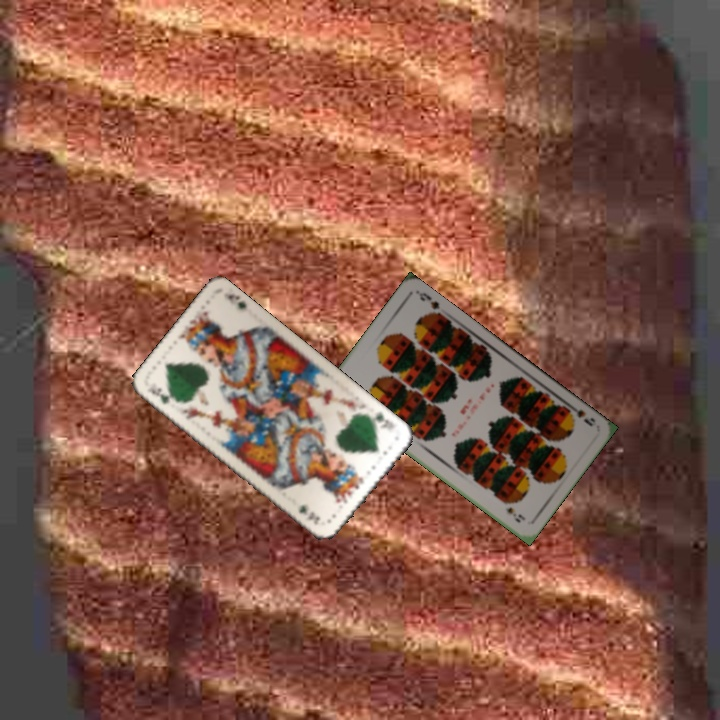GK: (143, 380, 180, 407), (362, 407, 396, 432)
S9: (563, 400, 598, 429)
